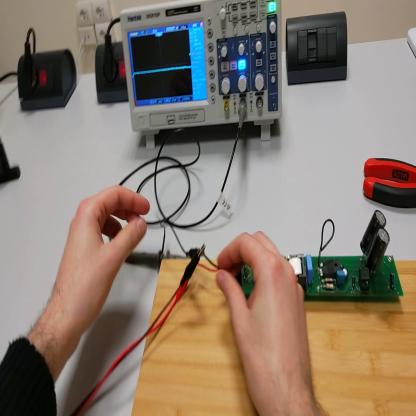hand: (215, 230, 317, 413), (53, 186, 150, 344)
high voltage board: (198, 210, 405, 301)
oscilloscope: (120, 5, 284, 153)
oscilloscope probe tip: (126, 248, 191, 276)
pliers: (364, 158, 416, 209)
socket: (15, 48, 80, 116), (95, 43, 129, 106)
working area: (132, 258, 416, 414)
